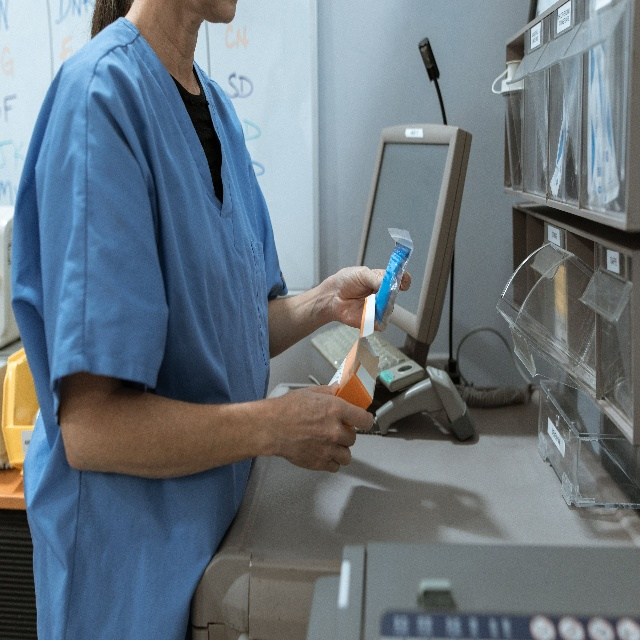Sin_guantes: (274, 380, 374, 469), (333, 264, 410, 329)
